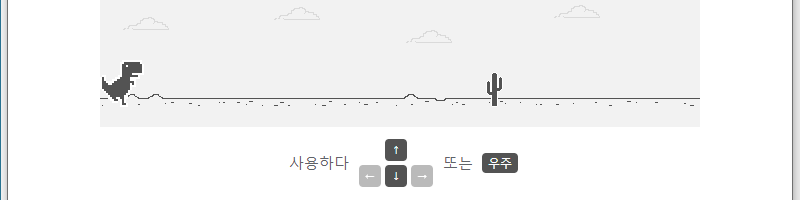dinosaur: (100, 57, 146, 109)
obstacle: (480, 70, 507, 110)
